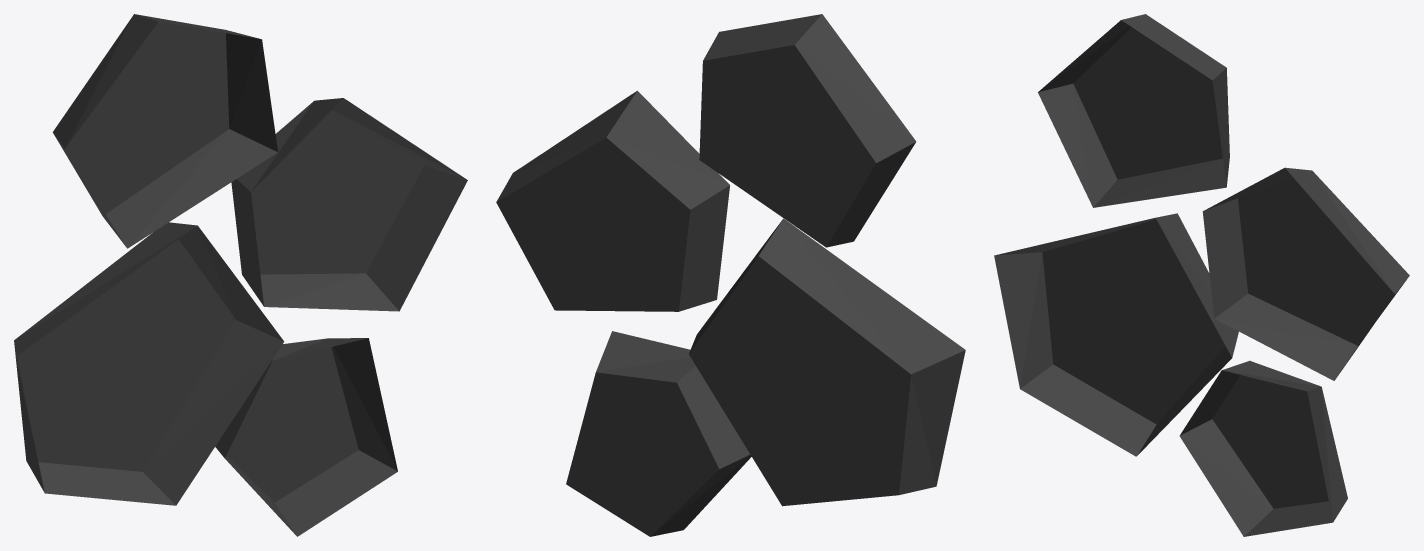
The model's file is StonePatch.fbx.
3 views of the same model, side by side, from view 1: azimuth 30°, elevation 25°; view 2: azimuth 150°, elevation 25°; view 3: azimuth 330°, elevation 25° (orthographic). The views are drawn at different scales.
Visible parts, largest first — view 1: StonePatch.014; view 2: StonePatch.014; view 3: StonePatch.014.
Boxes of the visible parts, x1,y1,x2,y2 form: StonePatch.014: (14,14,467,536); StonePatch.014: (496,14,965,536); StonePatch.014: (994,14,1409,536).
Bounding box in the file's own units: 181 × 20.95 × 210.
